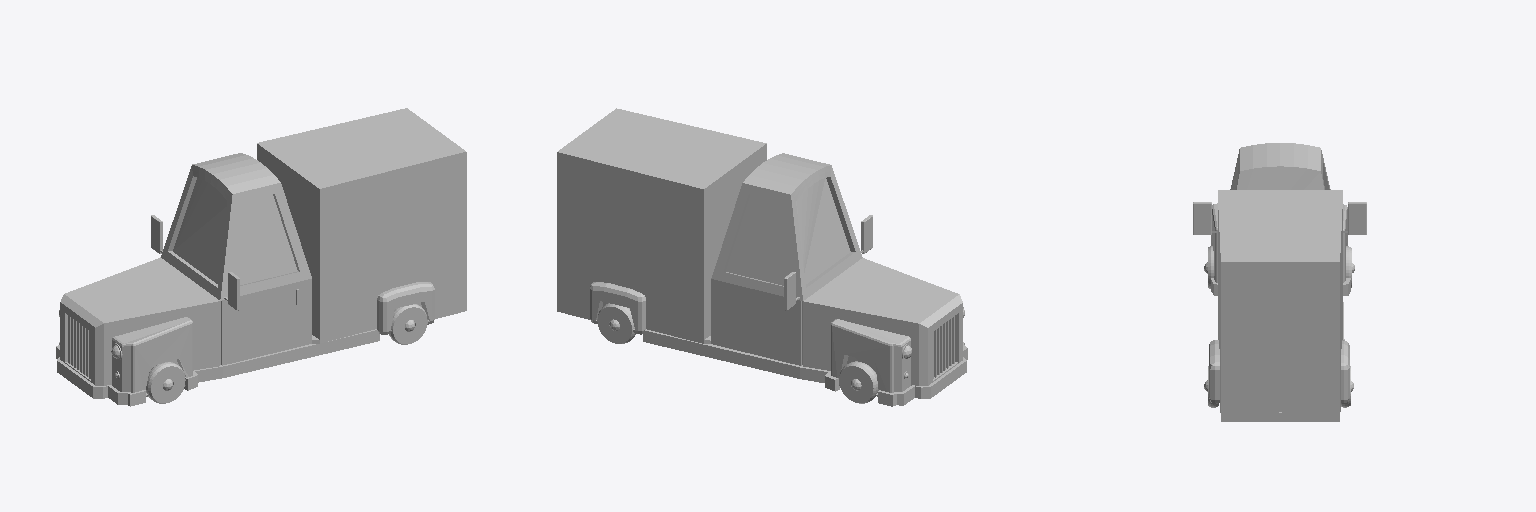
Rendered from Truck_1359.obj.
3 renders of one model, left to right at view 1: azimuth 30°, elevation 25°; view 2: azimuth 150°, elevation 25°; view 3: azimuth 270°, elevation 25°, orthographic.
Visible parts, largest first — view 1: Box001; view 2: Box001; view 3: Box001.
Boxes of the visible parts, <box> form: Box001: <box>56,108,466,406</box>; Box001: <box>557,108,967,406</box>; Box001: <box>1193,143,1366,421</box>.
Bounding box in the file's own units: 81.69 × 39.69 × 33.87.